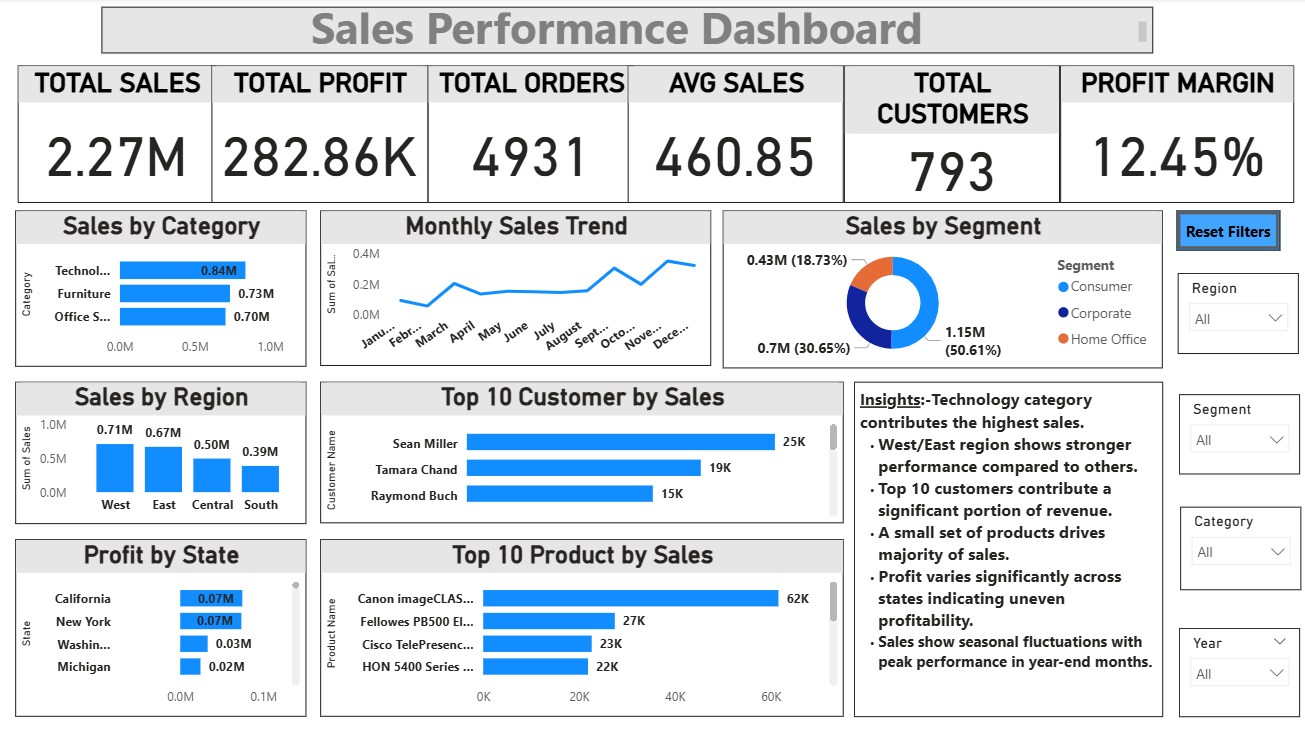

Layout of this report page (visuals, bound fields, positions):
{"tool":"powerbi","page":{"name":"Sales Analysis Dasboard","canvas":[1280,720],"ordinal":0},"visuals":[{"type":"card","title":"TOTAL SALES","fields":{"Values":["superstore_clean.Total Sales"]},"box":[17.9,66.4,193.7,134.5],"z":0},{"type":"card","title":"TOTAL PROFIT","fields":{"Values":["superstore_clean.Total Profit"]},"box":[208.1,66.4,211.7,134.5],"z":1000},{"type":"card","title":"TOTAL ORDERS","fields":{"Values":["superstore_clean.Total Orders"]},"box":[419.7,66.4,202.7,134.5],"z":2000},{"type":"card","title":"TOTAL CUSTOMERS","fields":{"Values":["superstore_clean.Total Customers"]},"box":[826.6,66,211.6,134.5],"z":3000},{"type":"lineChart","title":"Monthly Sales Trend","fields":{"Category":["superstore_clean.Order Date.Variation.Date Hierarchy.Month"],"Y":["Sum(superstore_clean.Sales)"]},"box":[314.3,207.9,382.7,151.6],"z":4000},{"type":"card","title":"AVG SALES ","fields":{"Values":["superstore_clean.Avg Sales Per Order"]},"box":[615.1,66,211.6,134.5],"z":5000},{"type":"card","title":"PROFIT MARGIN ","fields":{"Values":["superstore_clean.Profit Margin %"]},"box":[1038.2,66,228.7,134.5],"z":6000},{"type":"clusteredBarChart","title":" Sales by Category","fields":{"Category":["superstore_clean.Category"],"Y":["Sum(superstore_clean.Sales)"]},"box":[15.9,207.9,284.9,152.9],"z":7000},{"type":"clusteredColumnChart","title":"Sales by Region","fields":{"Category":["superstore_clean.Region"],"Y":["Sum(superstore_clean.Sales)"]},"box":[15.9,375.4,284.9,139.4],"z":8000},{"type":"clusteredBarChart","title":"Top 10 Customer by Sales","fields":{"Category":["superstore_clean.Customer Name"],"Y":["Sum(superstore_clean.Sales)"]},"box":[314.3,375.4,512.4,138.2],"z":9000},{"type":"clusteredBarChart","title":"Top 10 Product by Sales","fields":{"Category":["superstore_clean.Product Name"],"Y":["Sum(superstore_clean.Sales)"]},"box":[314.3,529.5,512.4,173.6],"z":10000},{"type":"donutChart","title":"Sales by Segment","fields":{"Category":["superstore_clean.Segment"],"Y":["Sum(superstore_clean.Sales)"]},"box":[708,207.9,430.4,154.1],"z":11000},{"type":"clusteredBarChart","title":"Profit by State","fields":{"Category":["superstore_clean.State"],"Y":["Sum(superstore_clean.Profit)"]},"box":[15.9,529.5,284.9,173.6],"z":12000},{"type":"textbox","box":[100.3,8.6,1028.4,45.2],"z":13000},{"type":"textbox","box":[836.4,375.4,302,327.7],"z":14000},{"type":"slicer","fields":{"Values":["superstore_clean.Region"]},"box":[1153.1,269,118.6,79.5],"z":15000},{"type":"slicer","fields":{"Values":["superstore_clean.Category"]},"box":[1155.6,497.7,118.6,81.9],"z":16000},{"type":"slicer","fields":{"Values":["superstore_clean.Segment"]},"box":[1154.4,387.6,118.6,78.3],"z":17000},{"type":"slicer","fields":{"Values":["superstore_clean.order_date_clean.Variation.Date Hierarchy.Year"]},"box":[1154.4,616.3,118.6,86.8],"z":18000},{"type":"actionButton","box":[1151.9,207.9,101.5,39.1],"z":18001}]}

Visuals, with their boxes in screenshot pixels (x1, y1, x2, y2), scaled from the page's 1280x720 canvas onto the 1305x731 screenshot:
"TOTAL SALES" card: Rect(18, 67, 216, 204)
"TOTAL PROFIT" card: Rect(212, 67, 428, 204)
"TOTAL ORDERS" card: Rect(428, 67, 635, 204)
"TOTAL CUSTOMERS" card: Rect(843, 67, 1058, 204)
"Monthly Sales Trend" lineChart: Rect(320, 211, 711, 365)
"AVG SALES " card: Rect(627, 67, 843, 204)
"PROFIT MARGIN " card: Rect(1058, 67, 1292, 204)
" Sales by Category" clusteredBarChart: Rect(16, 211, 307, 366)
"Sales by Region" clusteredColumnChart: Rect(16, 381, 307, 523)
"Top 10 Customer by Sales" clusteredBarChart: Rect(320, 381, 843, 521)
"Top 10 Product by Sales" clusteredBarChart: Rect(320, 538, 843, 714)
"Sales by Segment" donutChart: Rect(722, 211, 1161, 368)
"Profit by State" clusteredBarChart: Rect(16, 538, 307, 714)
textbox: Rect(102, 9, 1151, 55)
textbox: Rect(853, 381, 1161, 714)
slicer - superstore_clean.Region: Rect(1176, 273, 1297, 354)
slicer - superstore_clean.Category: Rect(1178, 505, 1299, 588)
slicer - superstore_clean.Segment: Rect(1177, 394, 1298, 473)
slicer - superstore_clean.order_date_clean.Variation.Date Hierarchy.Year: Rect(1177, 626, 1298, 714)
actionButton: Rect(1174, 211, 1278, 251)
